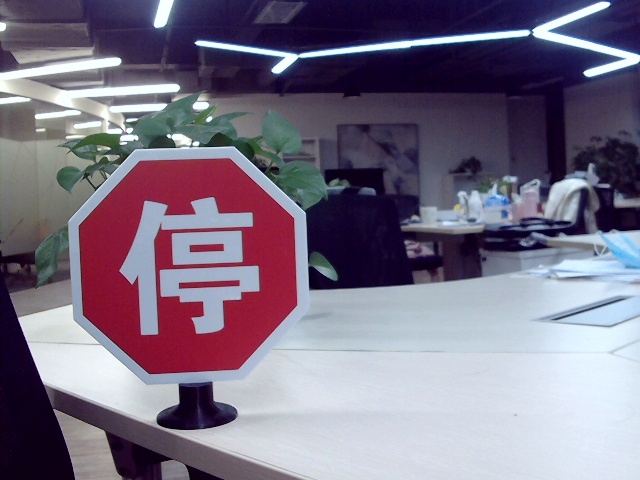stop: (118, 194, 261, 340)
